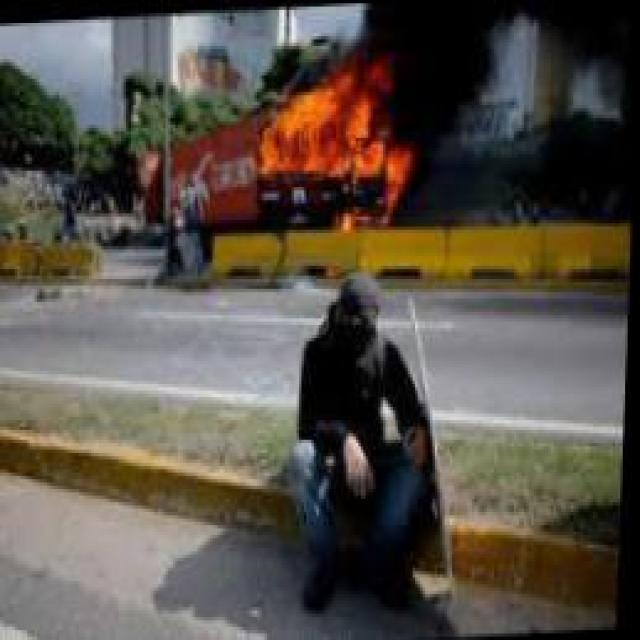Fire: (245, 52, 422, 243)
Smoke: (386, 3, 632, 138)
